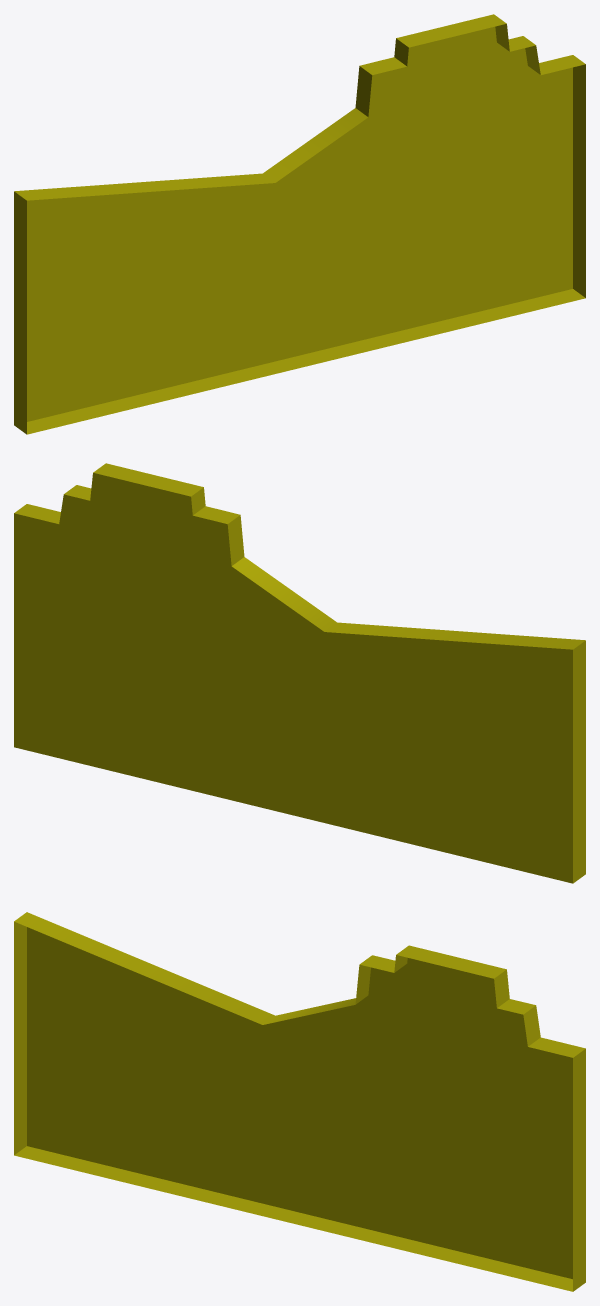
Rendered from 3 low res bread.fbx.
The picture shows the model from 3 angles, top to bottom: view 1: azimuth 30°, elevation 25°; view 2: azimuth 150°, elevation 25°; view 3: azimuth 330°, elevation 25°; orthographic projection.
Visible parts, largest first — view 1: gingerbread_Desert_terrain; view 2: gingerbread_Desert_terrain; view 3: gingerbread_Desert_terrain.
Part boxes in pixels (<box>): gingerbread_Desert_terrain: <box>14,14,585,434</box>; gingerbread_Desert_terrain: <box>14,463,585,883</box>; gingerbread_Desert_terrain: <box>14,912,585,1291</box>.
Bounding box in the file's own units: 25 × 12.56 × 1.
